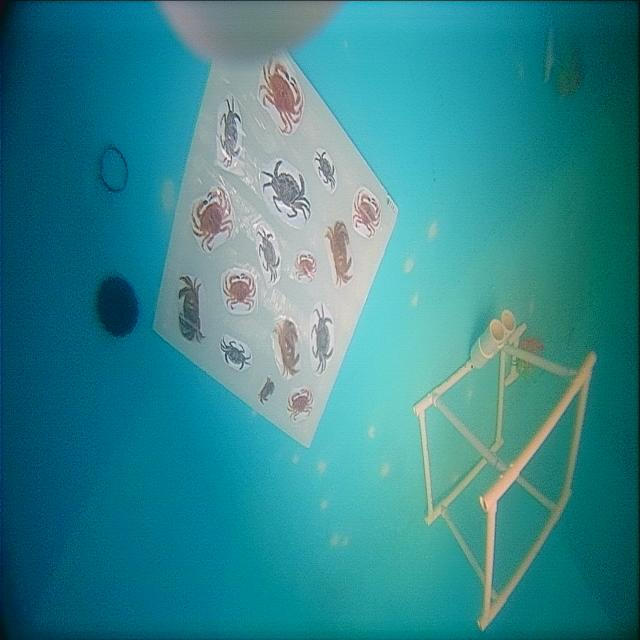GreenCrab: (261, 161, 310, 222), (311, 303, 333, 373), (220, 97, 241, 166), (219, 334, 252, 371), (257, 228, 280, 281), (315, 151, 334, 187)
